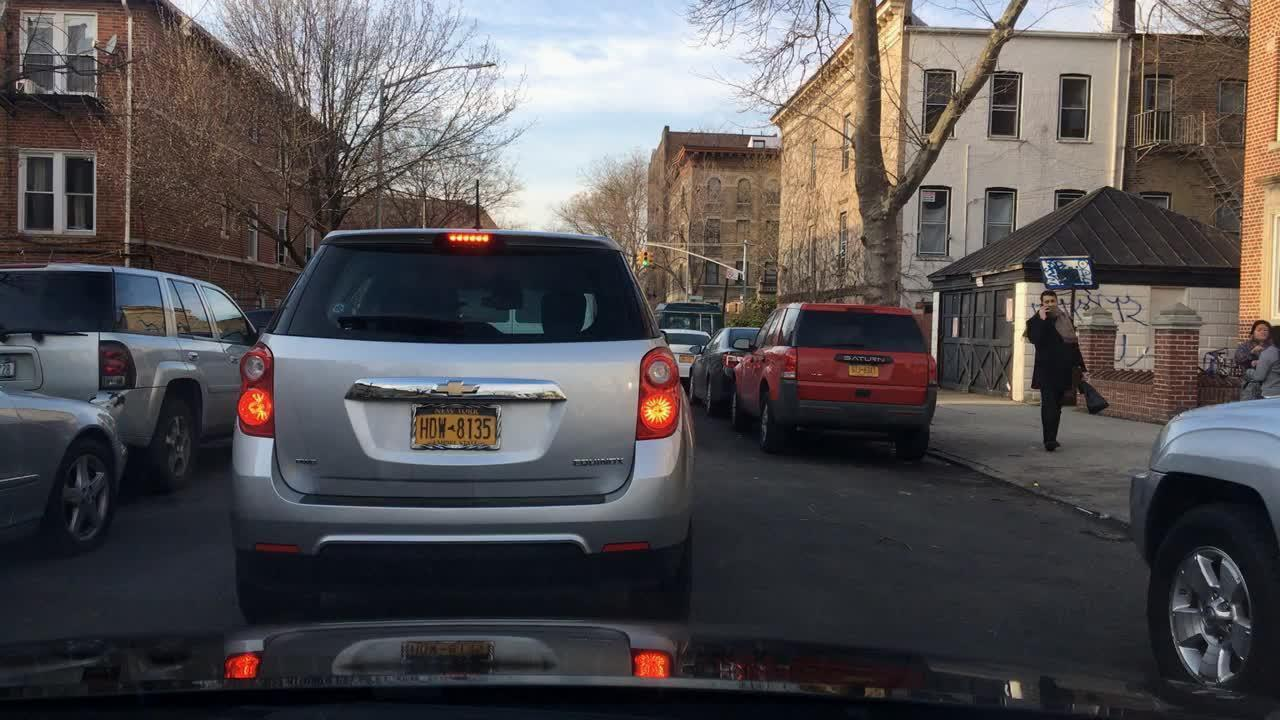chevrolet: (425, 372, 490, 412)
